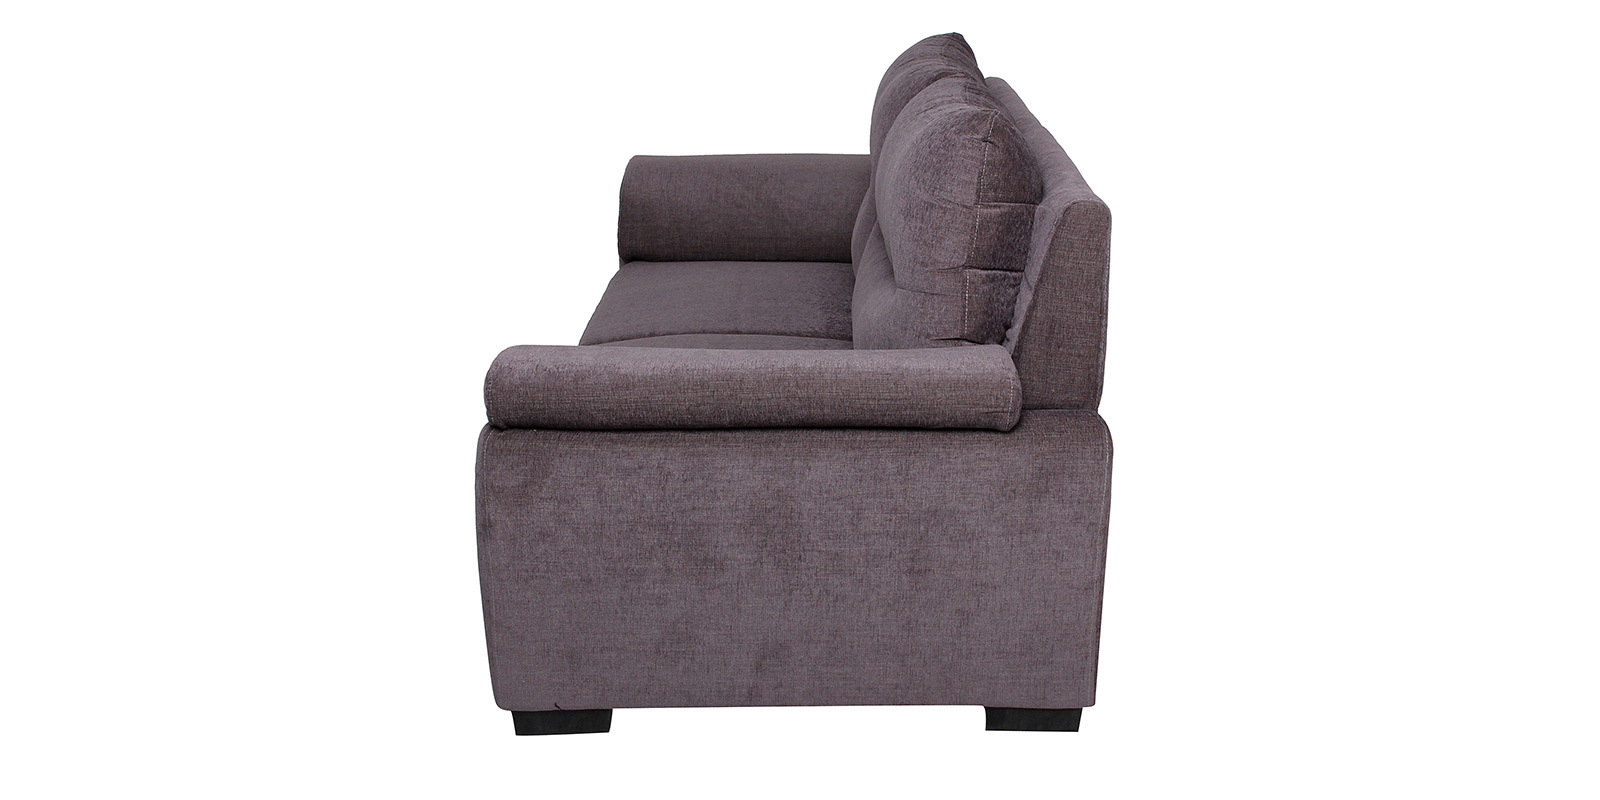Hamfir Three Seater Sofa in Brown Colour by Furniture Mind: (453, 22, 1163, 766)
